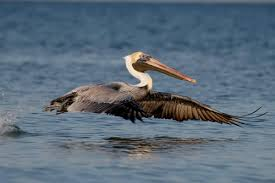pelican: (51, 51, 259, 128)
